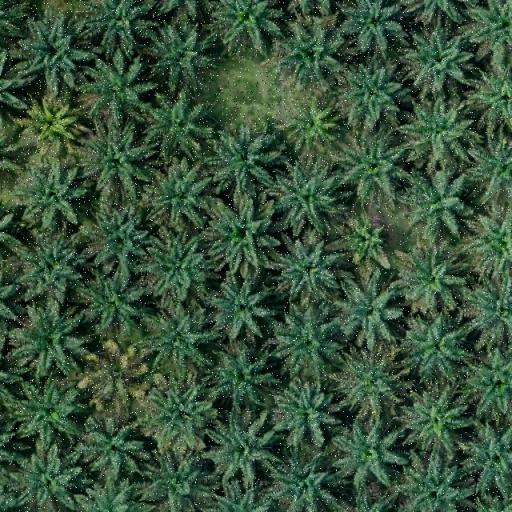Ganoderma: (29, 102, 73, 144)
